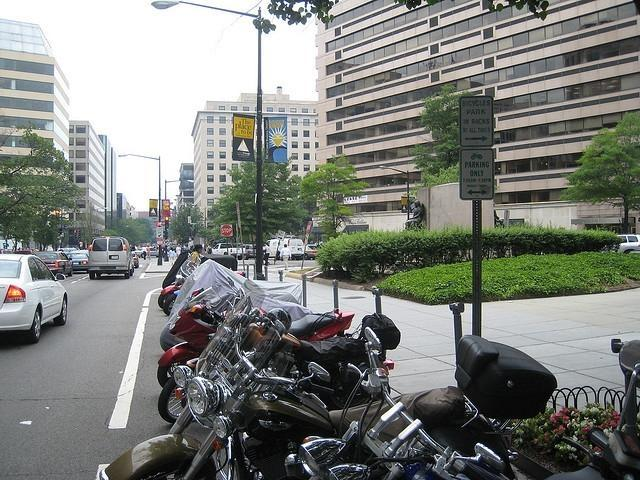car: (0, 253, 69, 344), (36, 249, 74, 278), (613, 232, 639, 256), (211, 243, 242, 260), (278, 239, 304, 258), (68, 252, 88, 270), (238, 243, 256, 261), (304, 244, 318, 260), (58, 246, 90, 253)
motorcycle: (103, 313, 430, 478), (157, 285, 356, 388), (284, 410, 552, 472), (160, 261, 300, 351), (283, 310, 403, 376), (402, 387, 515, 456), (212, 278, 318, 328), (156, 256, 244, 308)
truck: (88, 236, 138, 280)
